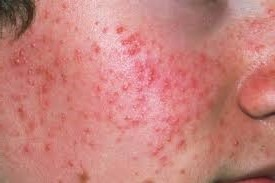Acne: (11, 49, 26, 66), (122, 81, 131, 92)
